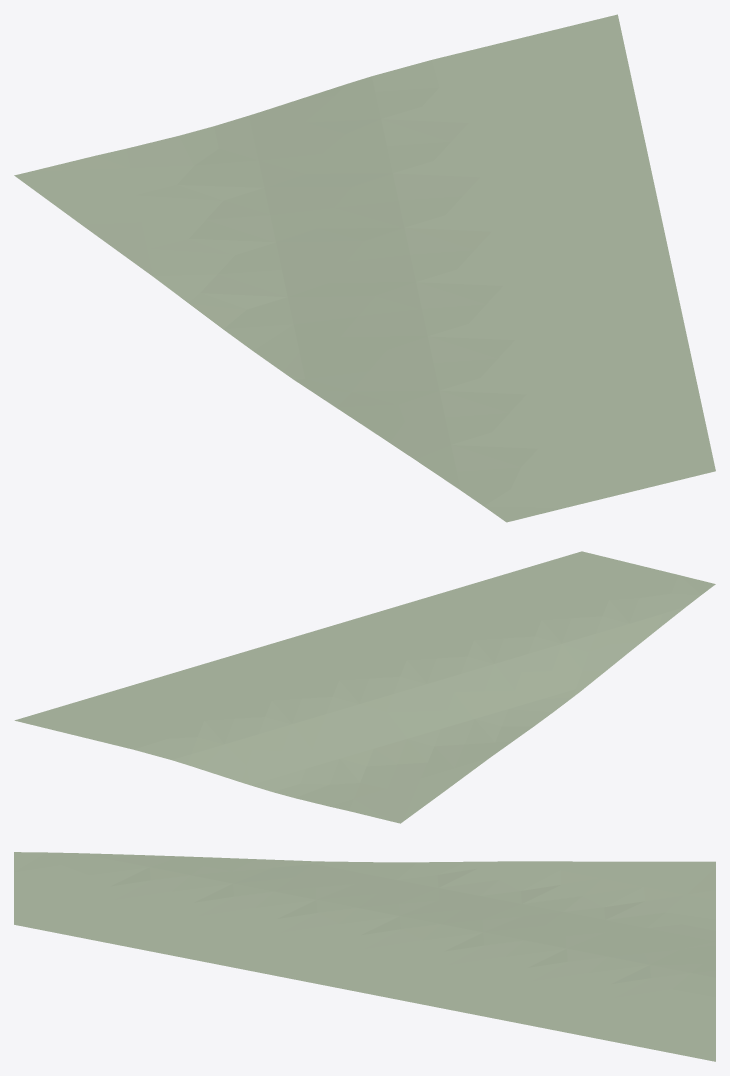
File: SM_MPRR_Terrain_4_0.fbx
3 views of the same model, one above another, from view 1: azimuth 30°, elevation 25°; view 2: azimuth 150°, elevation 25°; view 3: azimuth 270°, elevation 25° (orthographic). The views are drawn at different scales.
Parts seen in each view (by area): view 1: SM_MPRR_Terrain_4_0; view 2: SM_MPRR_Terrain_4_0; view 3: SM_MPRR_Terrain_4_0.
Part boxes in pixels (x1,y1,x2,y2): SM_MPRR_Terrain_4_0: (14,14,715,522); SM_MPRR_Terrain_4_0: (14,551,715,823); SM_MPRR_Terrain_4_0: (14,852,715,1061).
Bounding box in the file's own units: 10616 × 15000 × 244.
